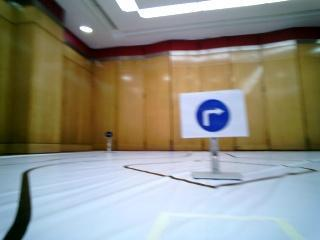right: (175, 92, 248, 133)
